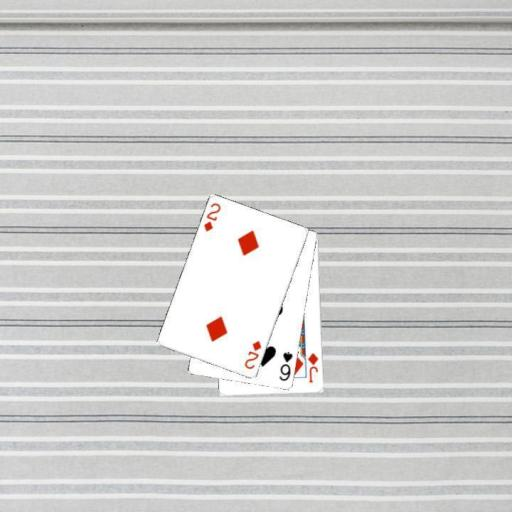card-corner: (241, 338, 263, 371), (200, 200, 222, 233), (276, 348, 294, 382), (305, 350, 320, 384)
